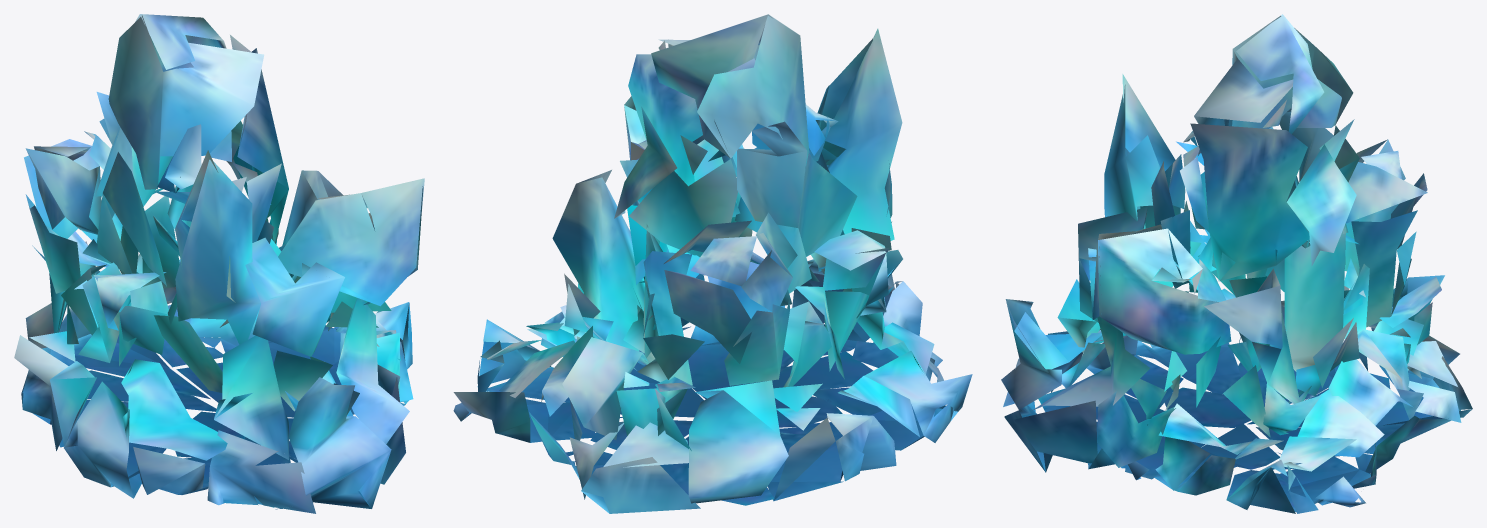
Rendered from cristal-lod.glb.
3 renders of one model, left to right at view 1: azimuth 30°, elevation 25°; view 2: azimuth 150°, elevation 25°; view 3: azimuth 270°, elevation 25°, orthographic. The views are drawn at different scales.
Visible parts, largest first — view 1: cristal; view 2: cristal; view 3: cristal.
Part boxes in pixels (x1,y1,x2,y2): cristal: (14, 14, 424, 513); cristal: (453, 14, 972, 513); cristal: (1001, 14, 1472, 513).
Size of the model in its own units: 0.914 by 0.9973 by 1.04.
Materials: 1 (1 with a texture image).
